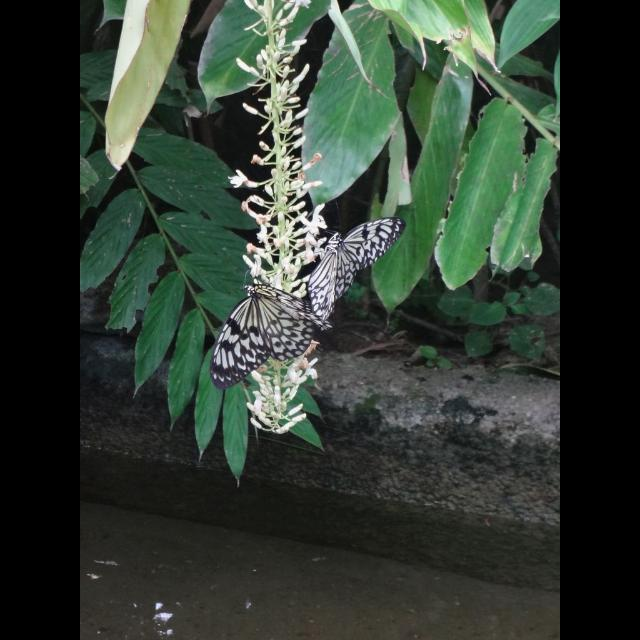Flower: (299, 205, 325, 239), (300, 354, 322, 380), (310, 234, 330, 262), (226, 169, 250, 189)
